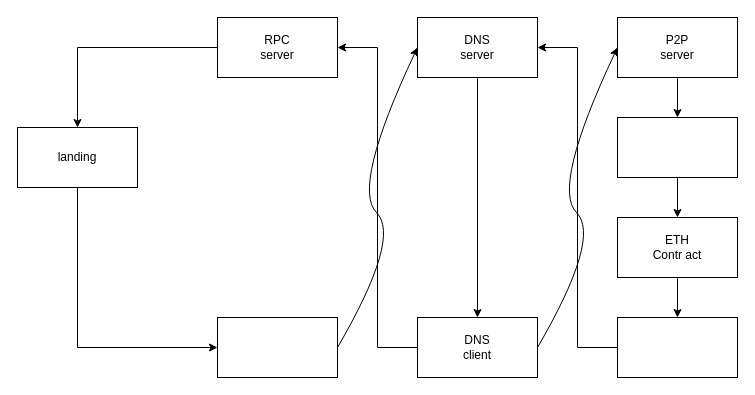
Some shapes in this 755 by 395 pixel diagram are drawn without their labels. Here are the shapes that lost their labels. From the top down, the centre of each, then its label:
At point 677,147: "IPFS FIle Storage".
At point 277,347: "RPC client".
At point 677,347: "P2P client".
